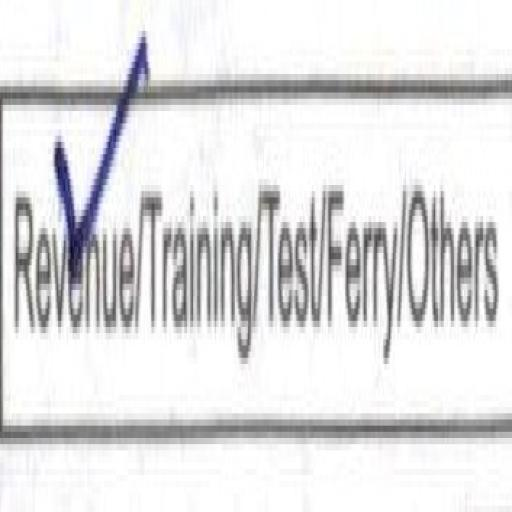check: (4, 19, 141, 481)
